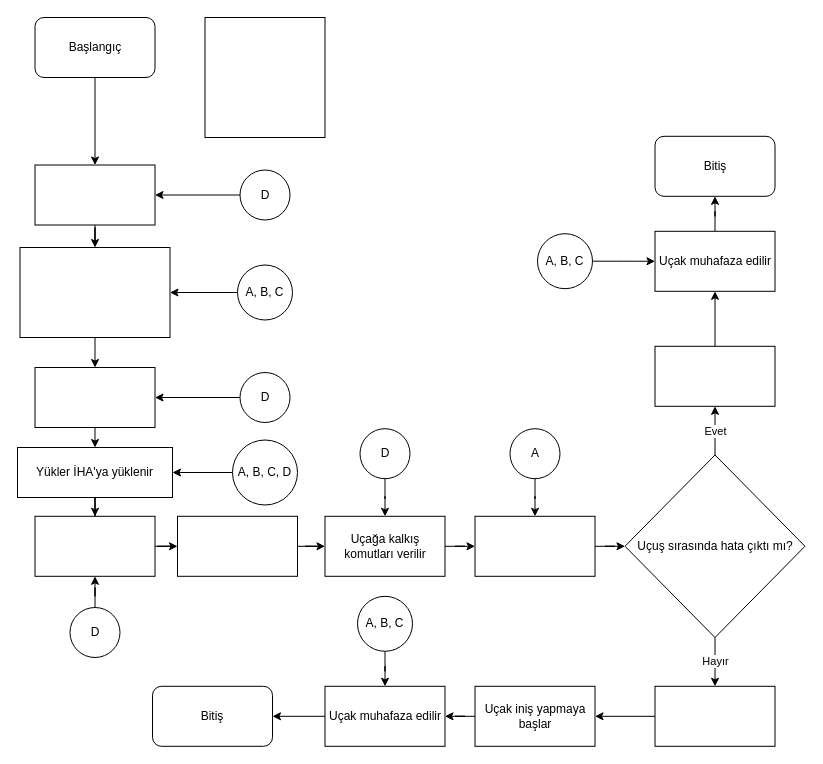
Image size: 823x764. Some labels were removed from this diagram. Each missing label, with the centre of its shape:
Fail safe aktif hale getirilir: [94,545]
İHA muhafaza kutusuyla beraber uçuş alanına taşınır: [94,292]
İHA'nın son kontrolü yapılır: [237,545]
İHA'ya gereken koordinatlar yüklenir: [94,397]
Radyo ve bilgisayar istasyonuna geçilir: [94,194]
Uçak fail safe moduna alınıp güvenli bir şekilde inişi gerçekleştirilir: [714,375]
Uçak omuzdan atmalı şekilde kalkış yapılır: [534,545]
Uçağın rotasını tamamlaması beklenir: [714,715]
Uçuş alanına girecek kişiler: A: B: C: D:: [264,77]
